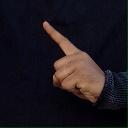hand: (41, 20, 105, 103)
